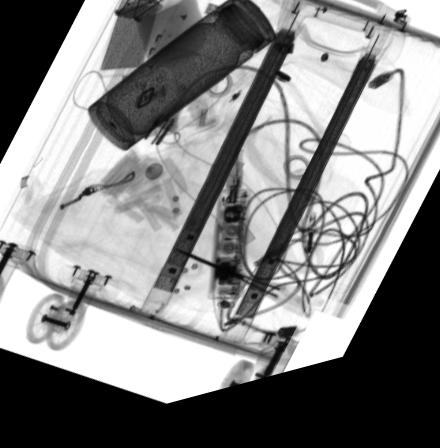Powerbank: (101, 0, 166, 79)
Scissors: (174, 258, 327, 335)
